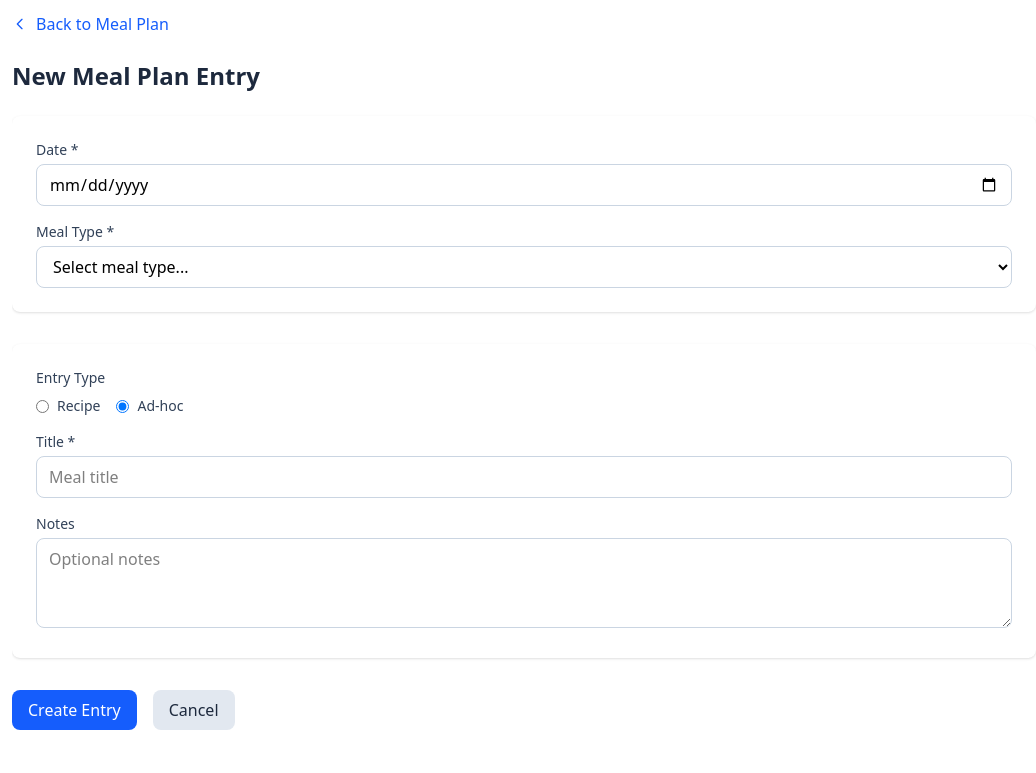
Test: MealPlanEntryForm › Create mode › auto-fills title when recipe selected
The image size is (1036, 773).
Click the radio button labelled "Recipe".
click(42, 406)  # box [36, 400, 49, 412]
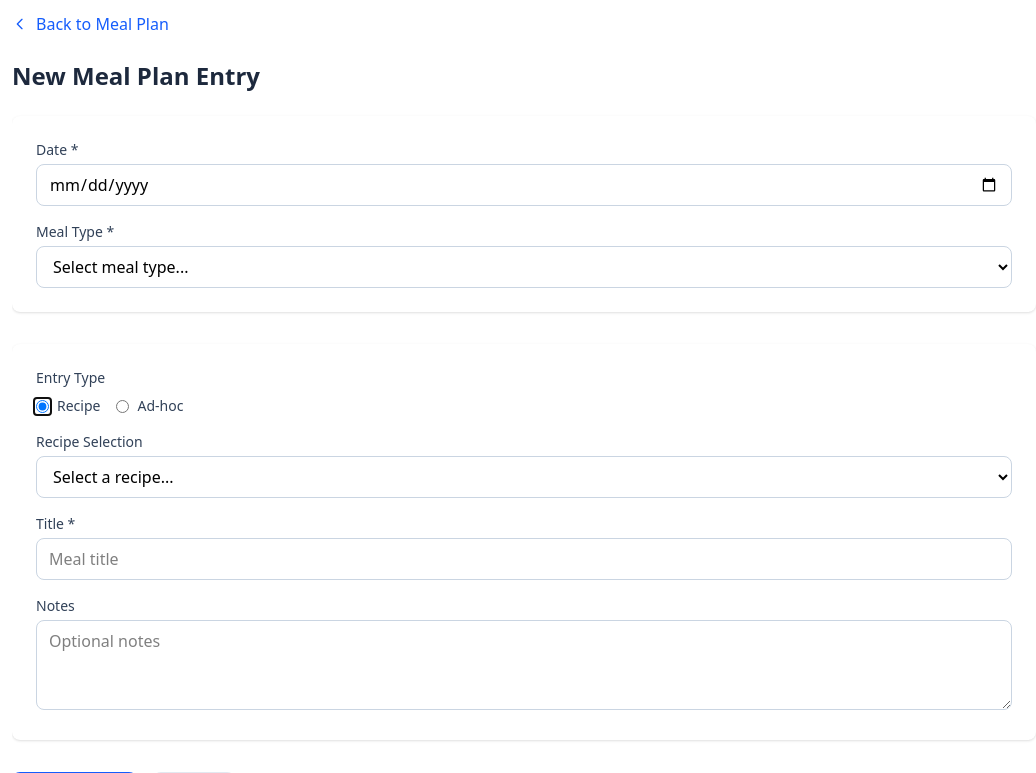
Select "Chicken Parmesan" in the dropdown labelled "Recipe Selection" at (524, 477), box [36, 456, 1012, 498]
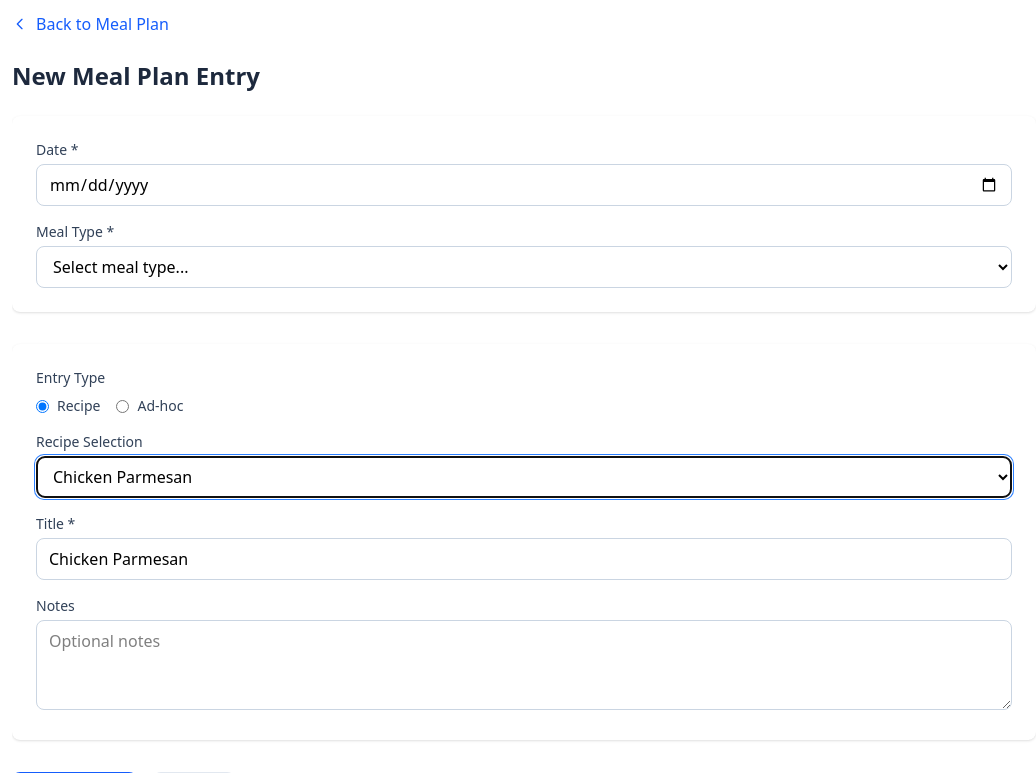
Result: the field labelled "Title *" holds "Chicken Parmesan" at [36, 538, 1012, 580]
